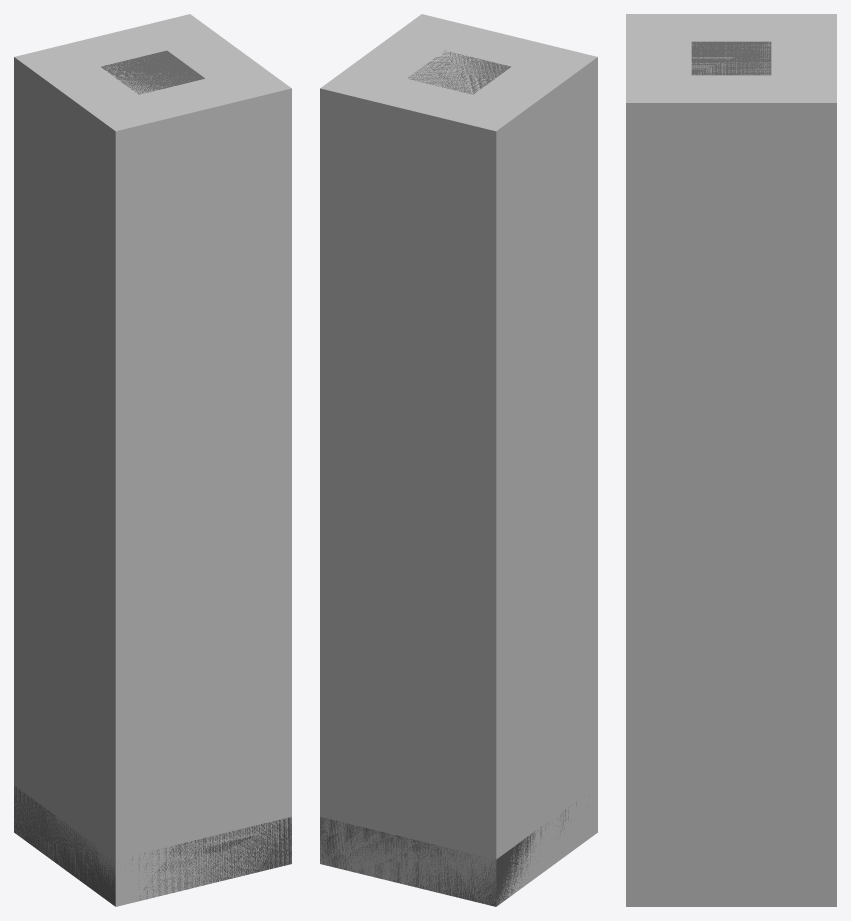
File: SM_PavementBarriers_03.fbx
3 views of the same model, side by side, from view 1: azimuth 30°, elevation 25°; view 2: azimuth 150°, elevation 25°; view 3: azimuth 270°, elevation 25° (orthographic). The views are drawn at different scales.
Visible parts, largest first — view 1: SM_PavementBarriers_03_ConvexHulls, SM_PavementBarriers_03; view 2: SM_PavementBarriers_03_ConvexHulls, SM_PavementBarriers_03; view 3: SM_PavementBarriers_03_ConvexHulls, SM_PavementBarriers_03.
Boxes of the visible parts, <box> form: SM_PavementBarriers_03_ConvexHulls: <box>14,14,291,906</box>; SM_PavementBarriers_03: <box>14,50,291,906</box>; SM_PavementBarriers_03_ConvexHulls: <box>320,14,597,906</box>; SM_PavementBarriers_03: <box>320,50,588,906</box>; SM_PavementBarriers_03_ConvexHulls: <box>626,14,836,906</box>; SM_PavementBarriers_03: <box>691,41,771,75</box>.
Size of the model in its own units: 21.07 by 21.07 by 88.69.
Materials: 2 (1 with a texture image).
